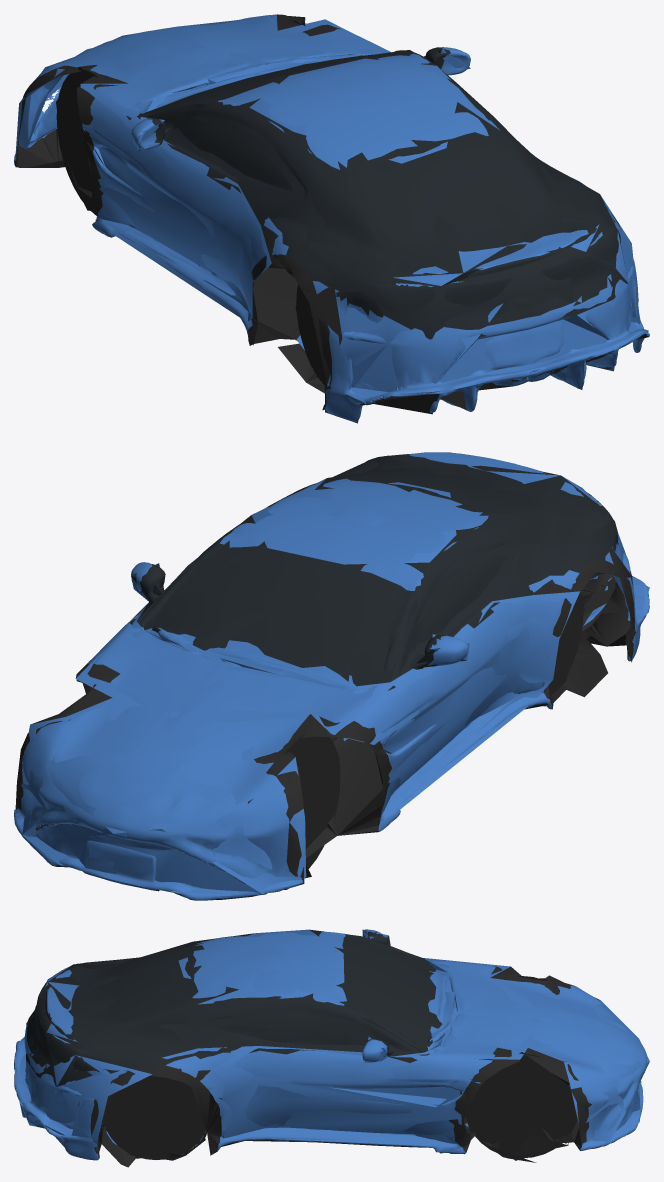
File: aston-martin-vantage-manual.glb
3 renders of one model, top to bottom at view 1: azimuth 30°, elevation 25°; view 2: azimuth 150°, elevation 25°; view 3: azimuth 270°, elevation 25°, orthographic. The views are drawn at different scales.
Parts seen in each view (by area): view 1: body, far; view 2: body, far; view 3: body, far.
Boxes of the visible parts, x1,y1,x2,y2 form: body: (14, 14, 649, 421); far: (15, 15, 648, 423); body: (14, 452, 649, 900); far: (21, 452, 649, 894); body: (14, 929, 647, 1167); far: (14, 929, 649, 1160).
Bounding box in the file's own units: 2.04 × 1.28 × 4.46.
